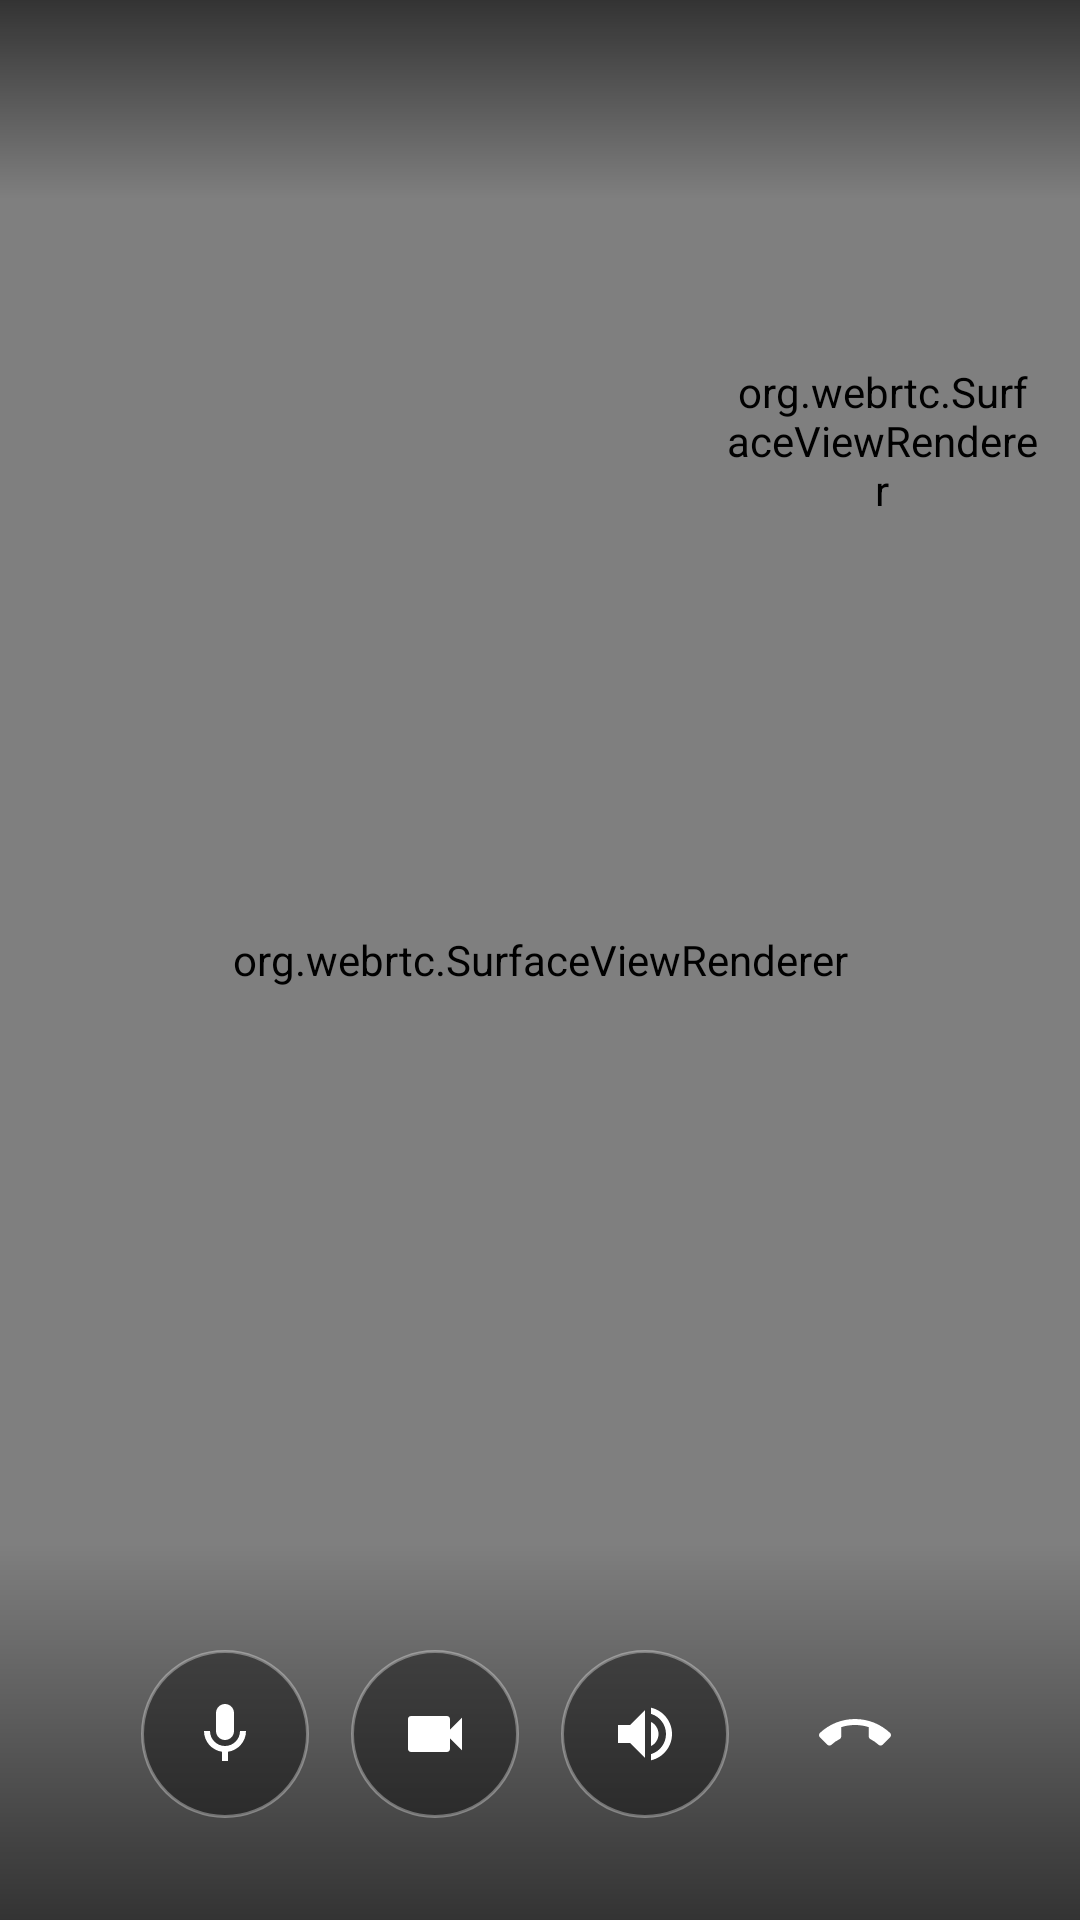

Point at icon controls on the screen. Image size 1080×1920, points as [x,y].
扬声器: [645,1734]
摄像头: [435,1734]
麦克风: [225,1734]
